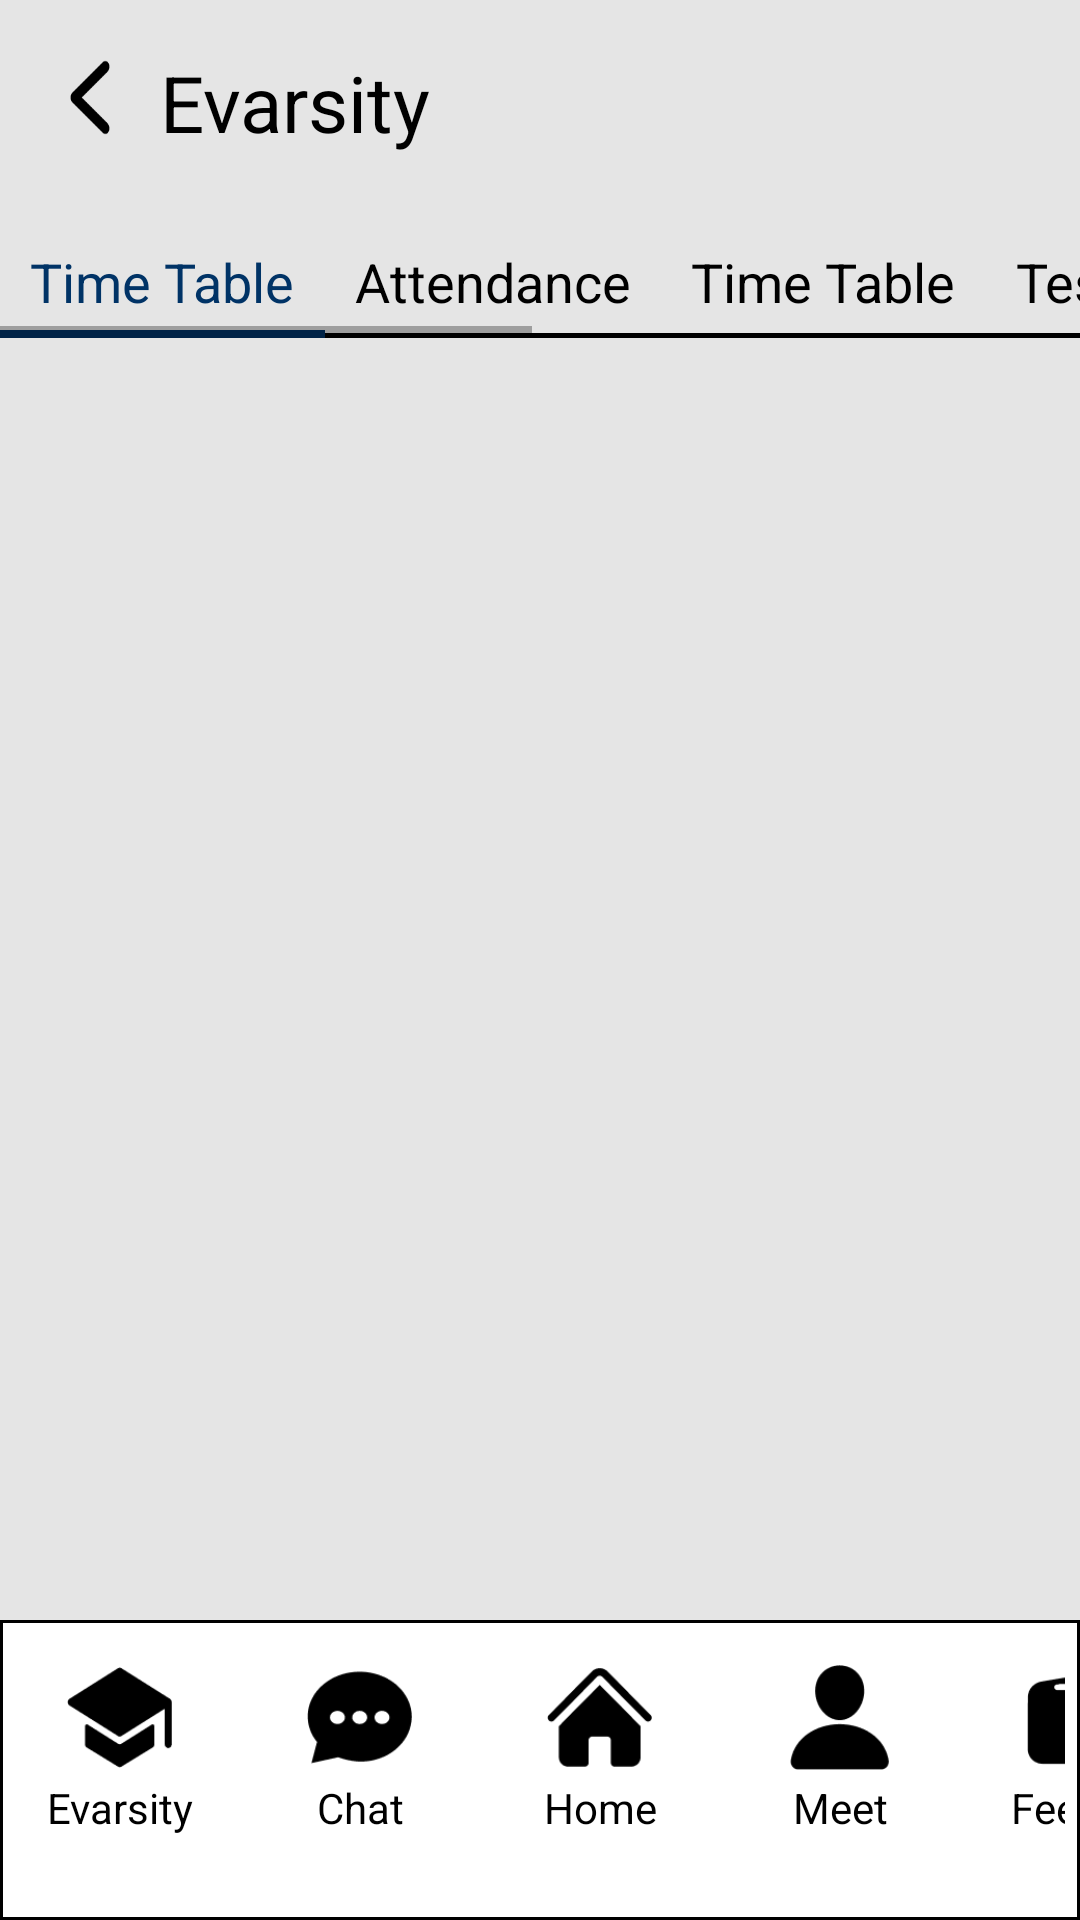

Where icons sit on this 1080x1920 app screen, as (x1, y1, x2, y2):
backsym: (70, 61, 110, 134)
